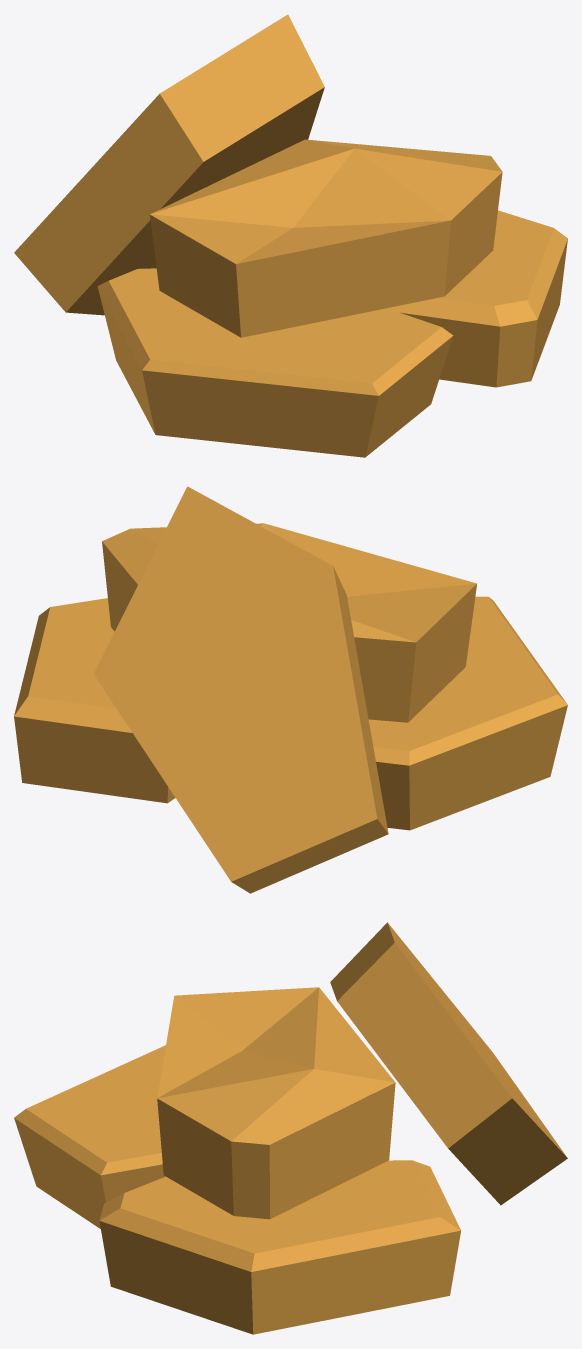
Rendered from resources-iron.glb.
3 renders of one model, top to bottom at view 1: azimuth 30°, elevation 25°; view 2: azimuth 150°, elevation 25°; view 3: azimuth 270°, elevation 25°, orthographic. The views are drawn at different scales.
Visible parts, largest first — view 1: iron; view 2: iron; view 3: iron.
Boxes of the visible parts, x1,y1,x2,y2 form: iron: (14, 14, 567, 457); iron: (14, 486, 567, 893); iron: (14, 922, 567, 1334).
Bounding box in the file's own units: 0.5209 × 0.3402 × 0.5372.
